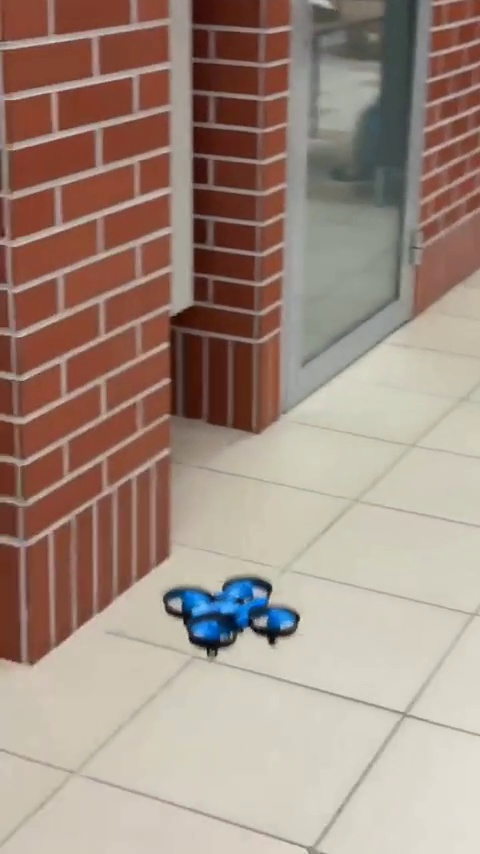drone: (155, 577, 307, 653)
